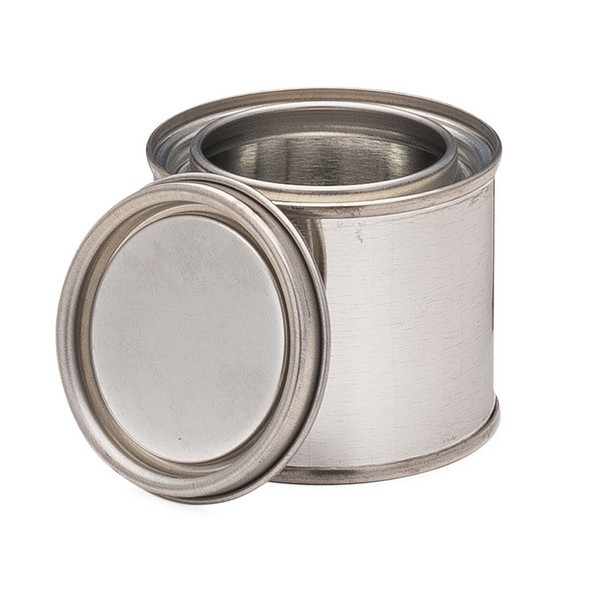metal: (145, 86, 508, 487), (54, 170, 335, 506)
